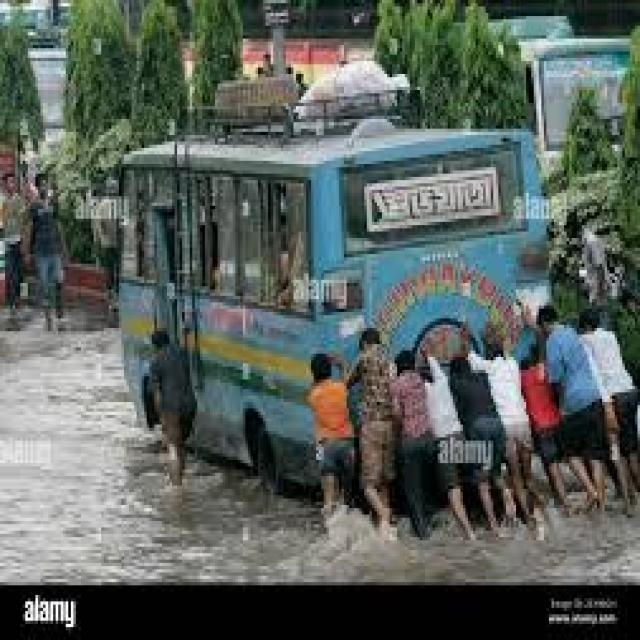bus: (108, 90, 569, 484)
